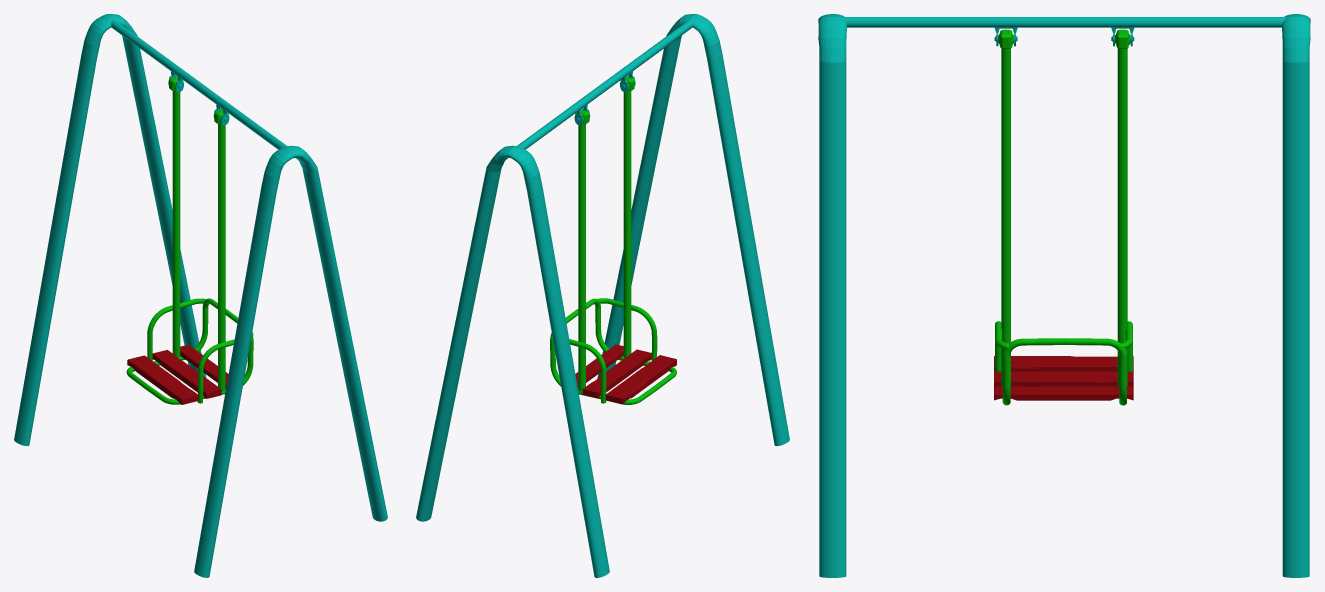
Rendered from chochely.fbx.
3 renders of one model, left to right at view 1: azimuth 30°, elevation 25°; view 2: azimuth 150°, elevation 25°; view 3: azimuth 270°, elevation 25°, orthographic. The views are drawn at different scales.
Parts seen in each view (by area): view 1: Cylinder.001, Цилиндр; view 2: Cylinder.001, Цилиндр; view 3: Cylinder.001, Цилиндр.
Part boxes in pixels (left/top/right/bottom): Cylinder.001: left=14, top=14, right=387, bottom=577; Цилиндр: left=126, top=76, right=253, bottom=404; Cylinder.001: left=416, top=14, right=789, bottom=577; Цилиндр: left=550, top=76, right=676, bottom=404; Cylinder.001: left=818, top=14, right=1310, bottom=577; Цилиндр: left=994, top=29, right=1133, bottom=405.
Size of the model in its own units: 1247 by 2552 by 2178.
